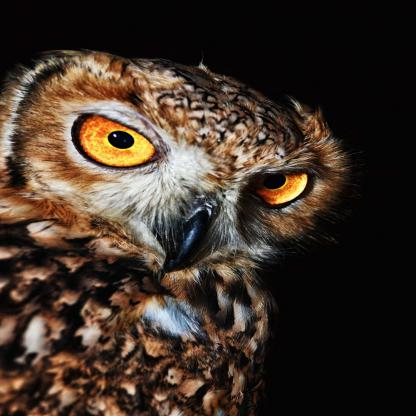owl: (7, 37, 369, 415)
